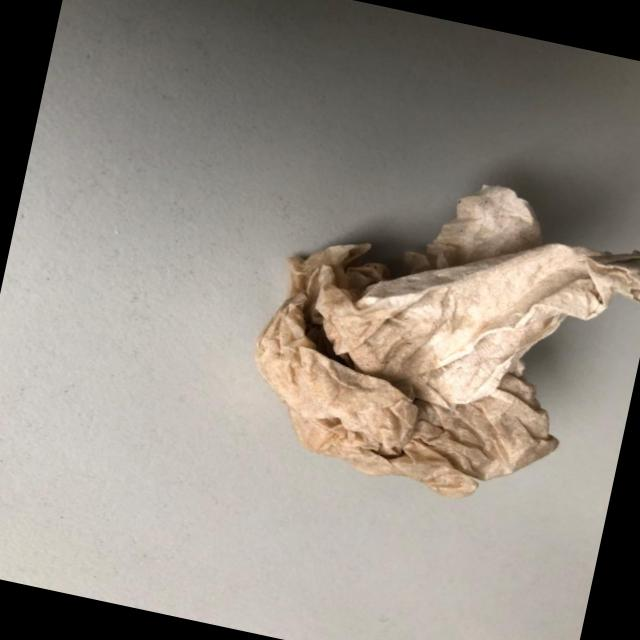organic waste: (226, 141, 640, 530)
